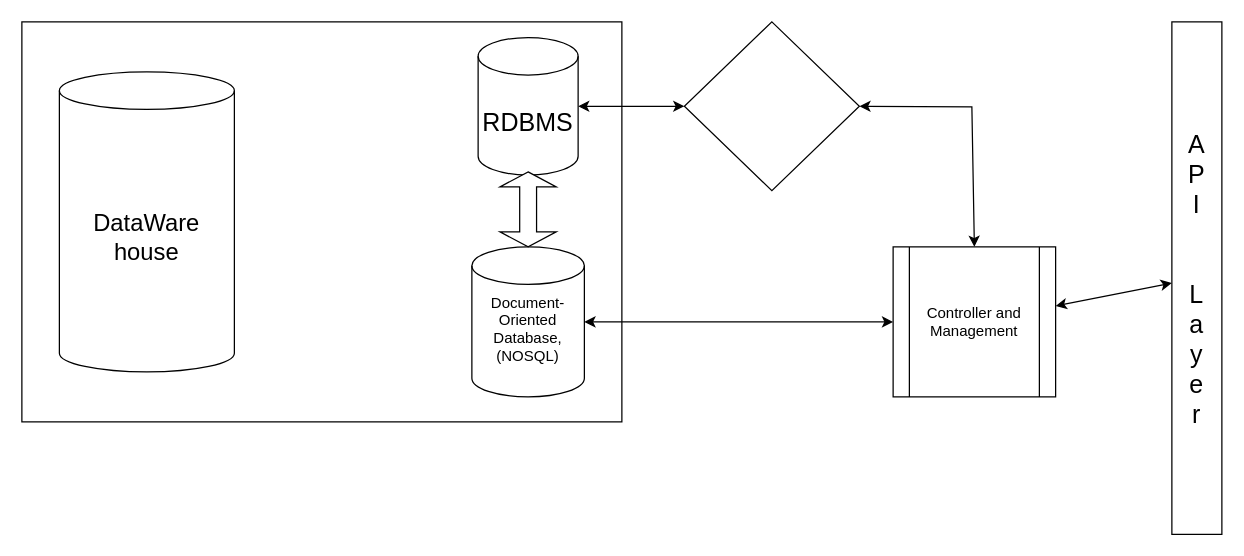
Some shapes in this 1244 by 556 pixel diagram are drawn without their labels. The shapes that lost their labels are listed below. From the top down, each one's box as (x1, y1, x2, y2) in pixels, then its label:
(683, 21, 859, 191): Authentication and Authorisation
(21, 21, 622, 422): Chatbot Database
